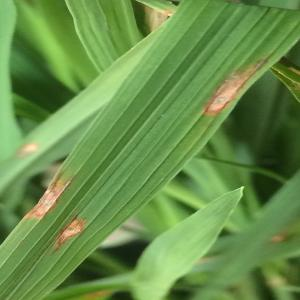Rice_Blast: (191, 43, 270, 122), (13, 162, 81, 229), (33, 213, 98, 246)
